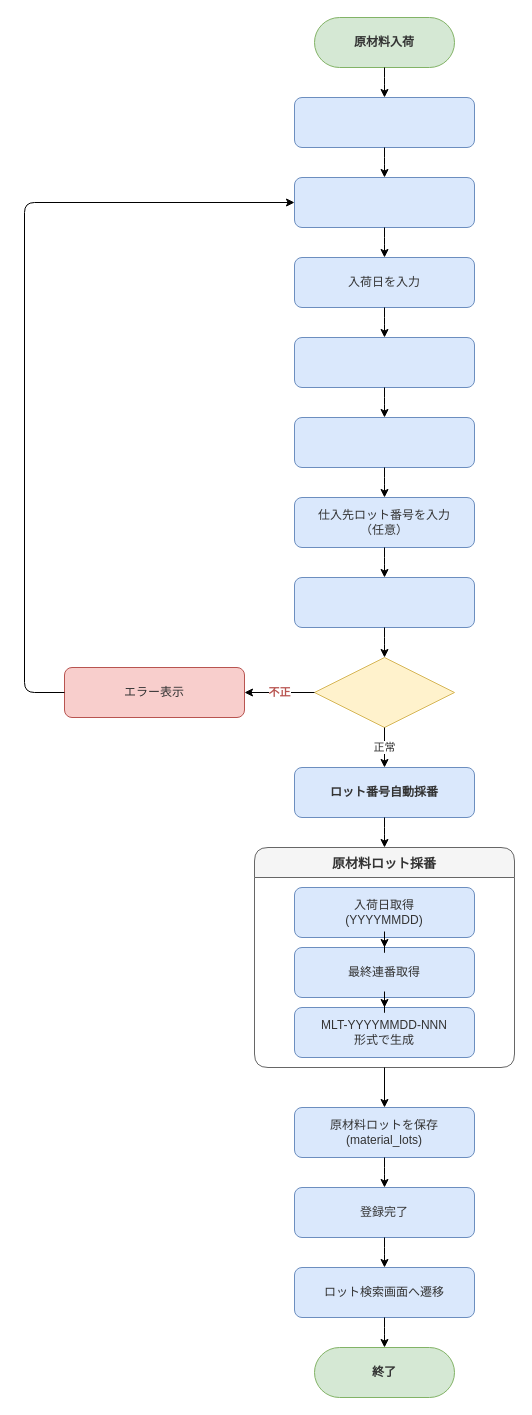
Image size: 532x1415. Some labels were removed from this diagram. The shapes that lost their labels are listed below. From the top down, each one's centre as x and y in pixels, then its label:
At pixel 384 122: "原材料ロット登録画面を開く".
At pixel 384 202: "原材料を選択".
At pixel 384 362: "有効期限を入力（任意）".
At pixel 384 442: "入荷数量を入力".
At pixel 384 602: "登録ボタン押下".
At pixel 384 692: "入力値 バリデーション".
